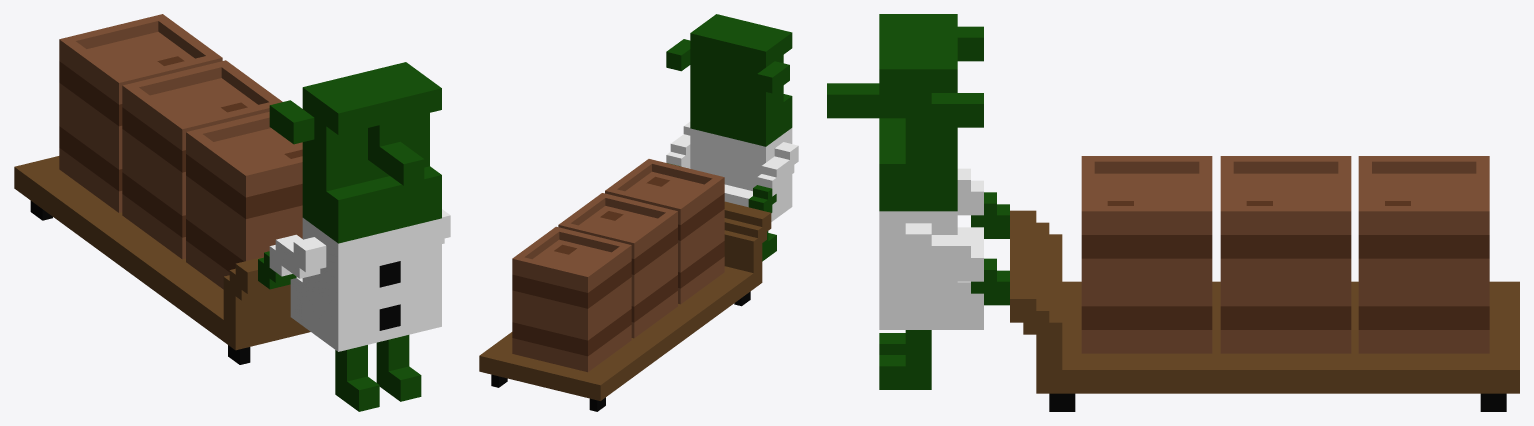
The model's file is goblin camion fbx.fbx.
The picture shows the model from 3 angles, left to right: view 1: azimuth 30°, elevation 25°; view 2: azimuth 150°, elevation 25°; view 3: azimuth 270°, elevation 25°; orthographic projection. The views are drawn at different scales.
Visible parts, largest first — view 1: goblin camion, barile1, barile3, barile2; view 2: goblin camion, barile3, barile1, barile2; view 3: goblin camion, barile1, barile2, barile3.
Part boxes in pixels (x1=…): goblin camion: x1=14, y1=62, x2=450, y2=411; barile1: x1=186, y1=112, x2=302, y2=289; barile3: x1=59, y1=14, x2=222, y2=212; barile2: x1=122, y1=60, x2=282, y2=259; goblin camion: x1=479, y1=14, x2=798, y2=411; barile3: x1=512, y1=226, x2=631, y2=372; barile1: x1=605, y1=159, x2=724, y2=304; barile2: x1=558, y1=193, x2=677, y2=338; goblin camion: x1=827, y1=14, x2=1519, y2=411; barile1: x1=1081, y1=156, x2=1212, y2=353; barile2: x1=1220, y1=156, x2=1351, y2=353; barile3: x1=1358, y1=156, x2=1489, y2=353.
Bounding box in the file's own units: 160 × 280 × 530.
